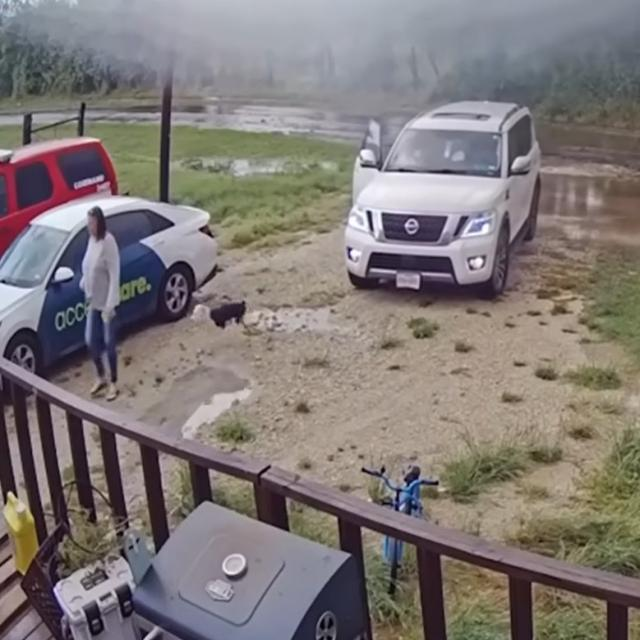standing: (79, 207, 119, 401)
